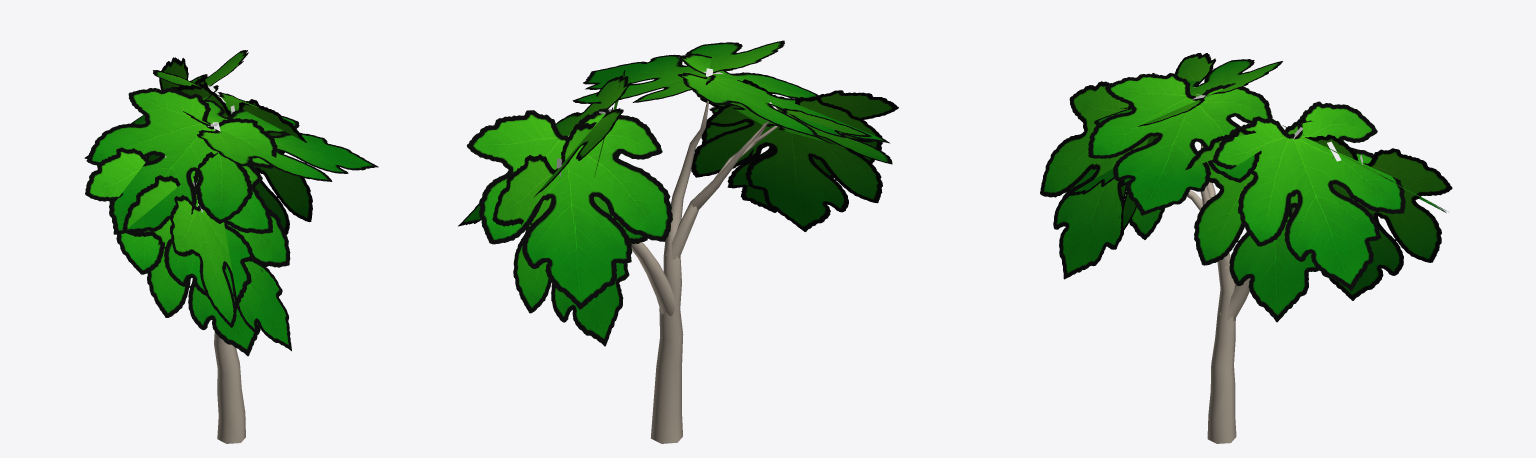
File: Stage 0 Asset.fbx
The picture shows the model from 3 angles, left to right: view 1: azimuth 30°, elevation 25°; view 2: azimuth 150°, elevation 25°; view 3: azimuth 270°, elevation 25°; orthographic projection. The views are drawn at different scales.
Visible parts, largest first — view 1: leaves.002|Plane con foglia fico|Dupli|, tree.002; view 2: leaves.002|Plane con foglia fico|Dupli|, tree.002; view 3: leaves.002|Plane con foglia fico|Dupli|, tree.002.
Boxes of the visible parts, bbox=[...] form: leaves.002|Plane con foglia fico|Dupli|: bbox=[84, 50, 378, 356]; tree.002: bbox=[214, 331, 245, 443]; leaves.002|Plane con foglia fico|Dupli|: bbox=[458, 40, 898, 346]; tree.002: bbox=[631, 74, 777, 443]; leaves.002|Plane con foglia fico|Dupli|: bbox=[1040, 53, 1452, 322]; tree.002: bbox=[1186, 144, 1333, 443].
Bounding box in the file's own units: 387 × 474 × 354.
